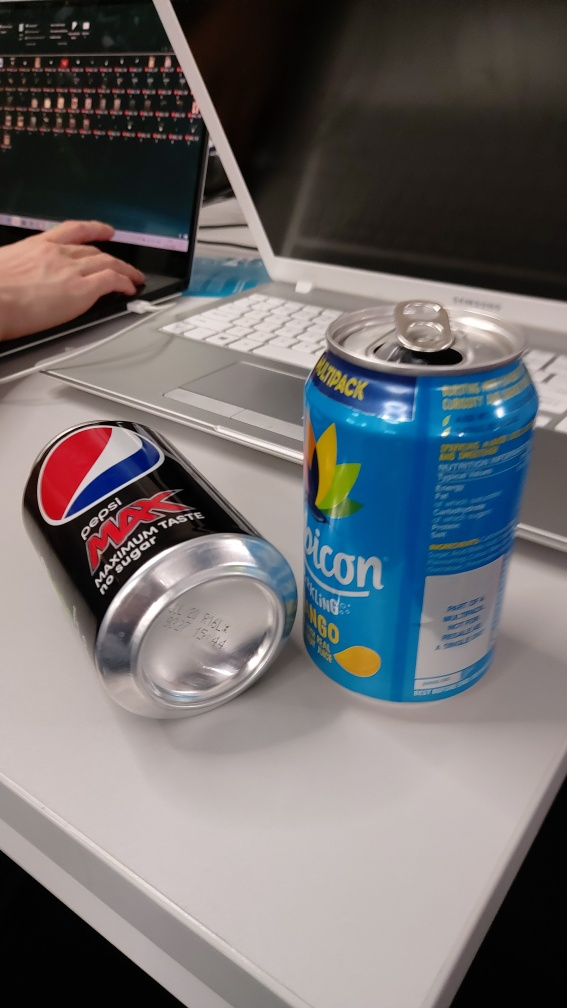can_blue: (253, 261, 554, 744)
